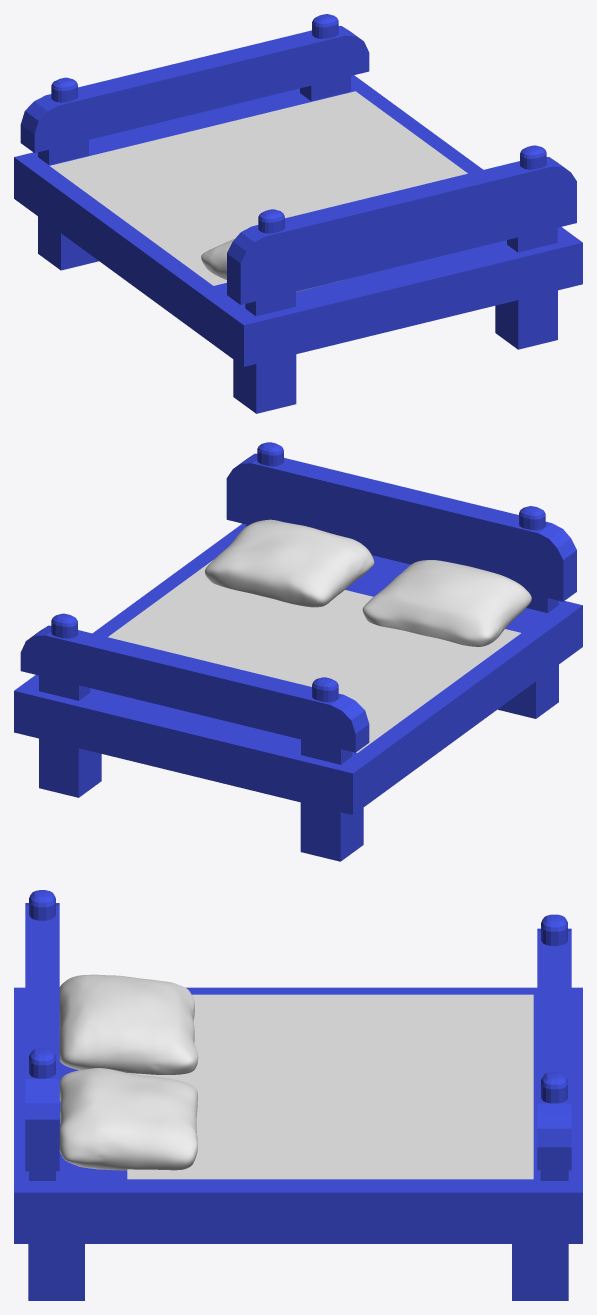
File: bedbig_m1h.fbx
3 renders of one model, top to bottom at view 1: azimuth 30°, elevation 25°; view 2: azimuth 150°, elevation 25°; view 3: azimuth 270°, elevation 25°, orthographic. The views are drawn at different scales.
Parts seen in each view (by area): view 1: Cube; view 2: Cube; view 3: Cube.
Part boxes in pixels (left/top/right/bottom): Cube: left=14, top=14, right=582, bottom=413; Cube: left=14, top=442, right=582, bottom=861; Cube: left=14, top=890, right=582, bottom=1300.
Bounding box in the file's own units: 2.95 × 1.6 × 3.46.
